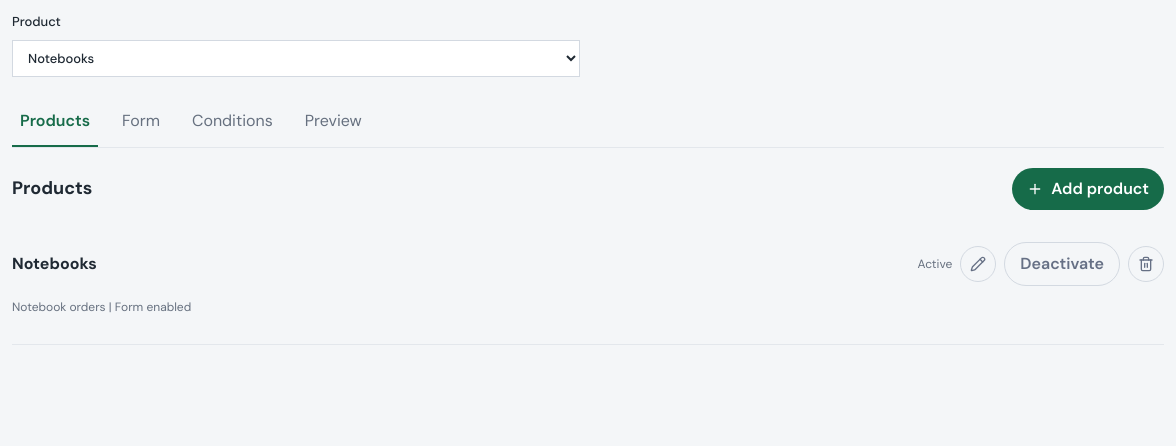
Test: distinguishes deactivation from confirmed deletion and surfaces referencing order conflicts
The width and height of the screenshot is (1176, 446).
Click the button "Deactivate" at (1062,264), box [1004,242,1120,286]
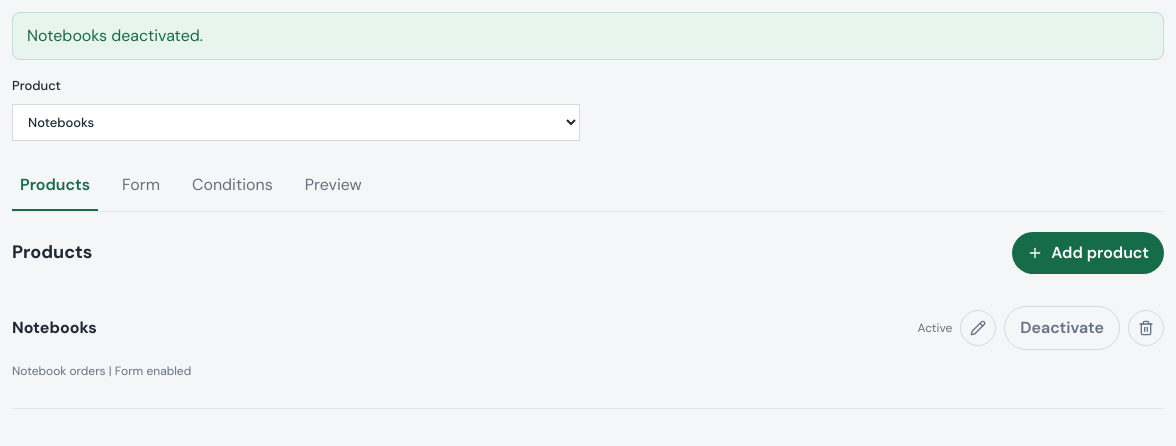
Click the button named "Permanently delete Notebooks" at (1146,328), box [1128,310,1164,346]
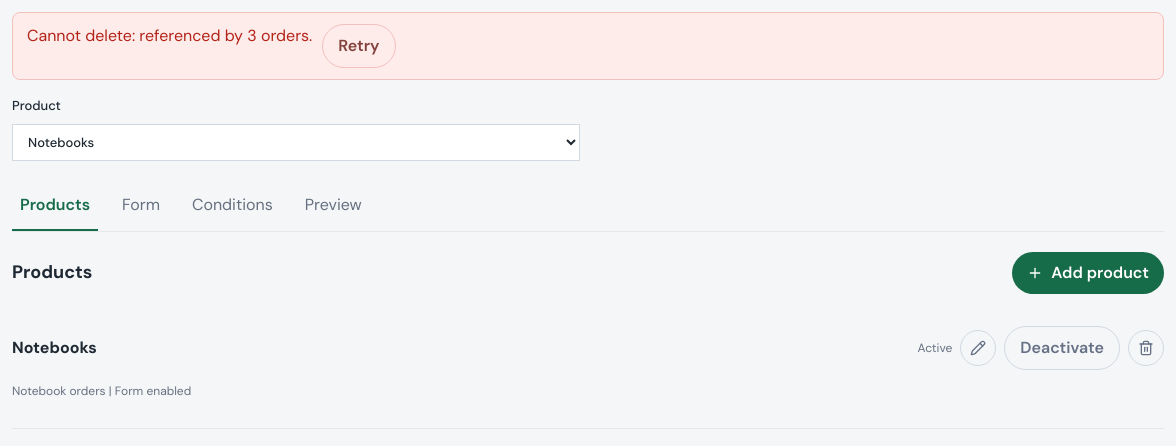
Expected: the message shows "referenced by 3 orders", [27,25,312,46]
